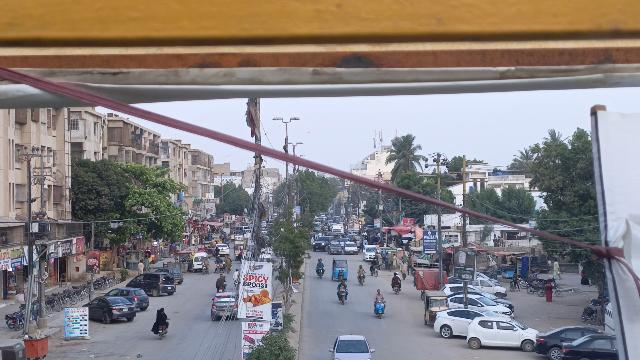Bike: (370, 300, 388, 320), (152, 323, 170, 341), (338, 288, 349, 304), (391, 282, 403, 296), (356, 272, 367, 287), (315, 266, 325, 280)
Car: (465, 315, 537, 352), (532, 324, 603, 359), (559, 331, 620, 360), (433, 308, 490, 339), (78, 295, 136, 323), (326, 333, 377, 360), (126, 271, 177, 298), (210, 291, 239, 324), (108, 287, 150, 309)
Person: (154, 305, 168, 326), (374, 286, 386, 304), (356, 262, 368, 277), (337, 277, 348, 291), (390, 270, 400, 284), (315, 256, 325, 268)
Rickshaw: (423, 289, 449, 327), (330, 255, 350, 281)
Van: (192, 252, 205, 272)
